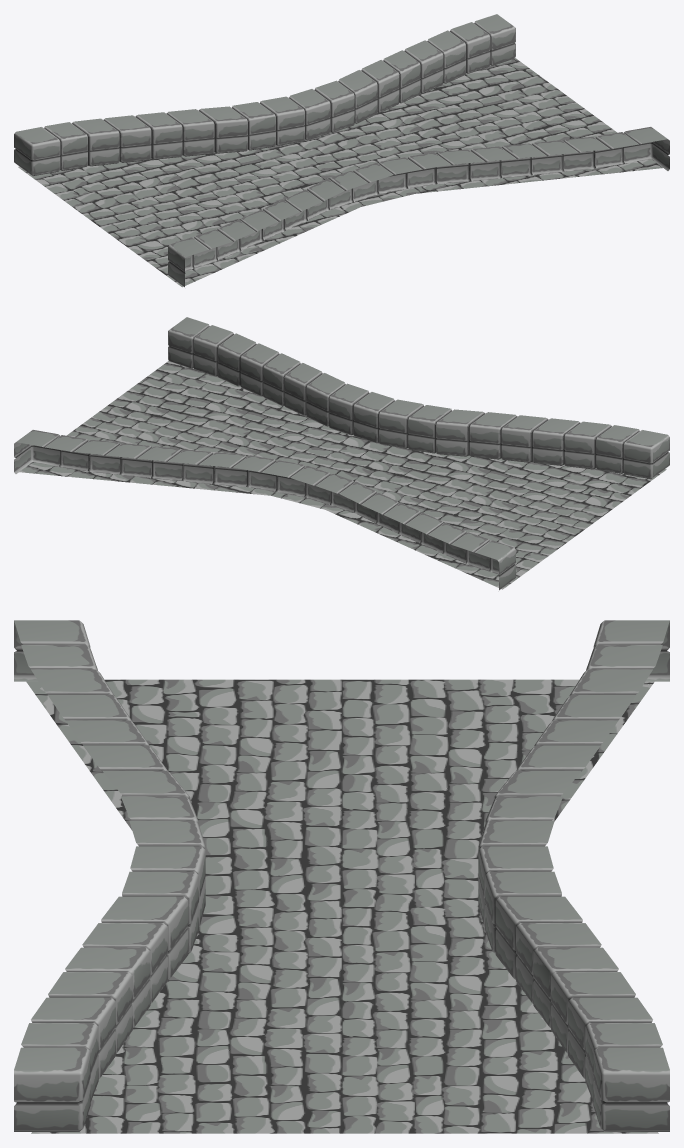
The model's file is mod_med_her_part_a_12.fbx.
3 renders of one model, top to bottom at view 1: azimuth 30°, elevation 25°; view 2: azimuth 150°, elevation 25°; view 3: azimuth 270°, elevation 25°, orthographic. The views are drawn at different scales.
Visible parts, largest first — view 1: mod_med_her_part_a_12; view 2: mod_med_her_part_a_12; view 3: mod_med_her_part_a_12.
Boxes of the visible parts, x1,y1,x2,y2 form: mod_med_her_part_a_12: (14, 14, 669, 287); mod_med_her_part_a_12: (14, 317, 669, 590); mod_med_her_part_a_12: (14, 620, 669, 1133).
Size of the model in its own units: 180 by 11.47 by 110.
